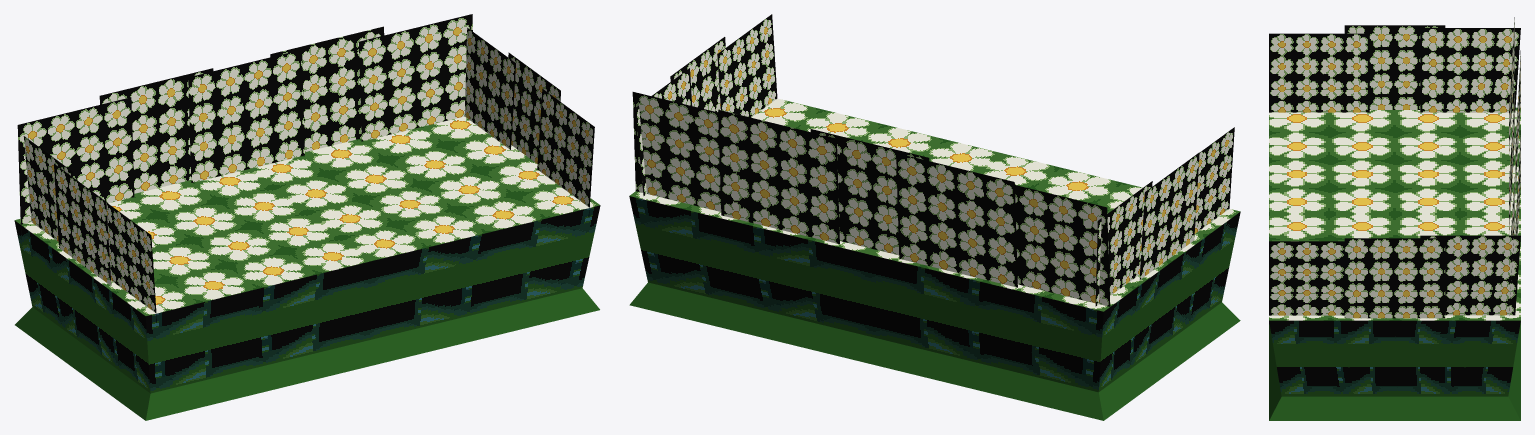
Rendered from 3655kg_case_22.gltf.
3 renders of one model, left to right at view 1: azimuth 30°, elevation 25°; view 2: azimuth 150°, elevation 25°; view 3: azimuth 270°, elevation 25°, orthographic. The views are drawn at different scales.
Parts seen in each view (by area): view 1: 3655kg_case_22; view 2: 3655kg_case_22; view 3: 3655kg_case_22.
Boxes of the visible parts, left/top/right/bottom form: 3655kg_case_22: left=14, top=14, right=600, bottom=420; 3655kg_case_22: left=629, top=14, right=1240, bottom=420; 3655kg_case_22: left=1269, top=17, right=1520, bottom=420.
Bounding box in the file's own units: 2 × 0.875 × 1.
Materials: 3 (3 with a texture image).
